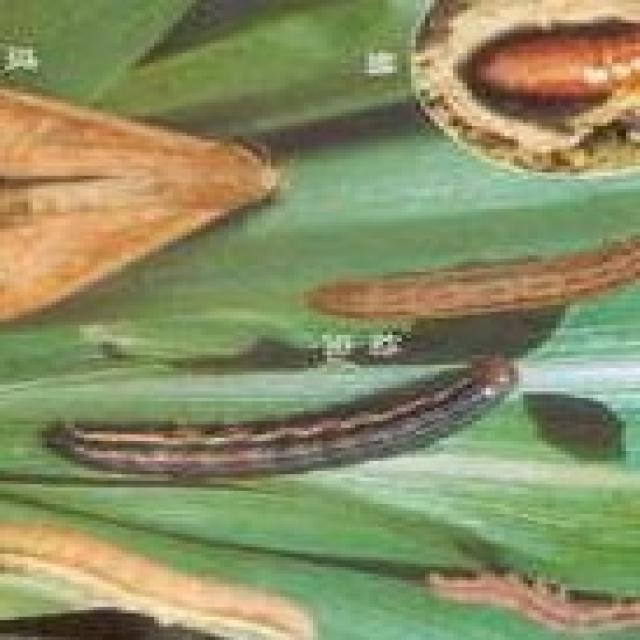army worm: (6, 61, 305, 346), (39, 349, 525, 515), (307, 225, 639, 341), (6, 530, 342, 639), (466, 16, 639, 112), (417, 560, 640, 629)
